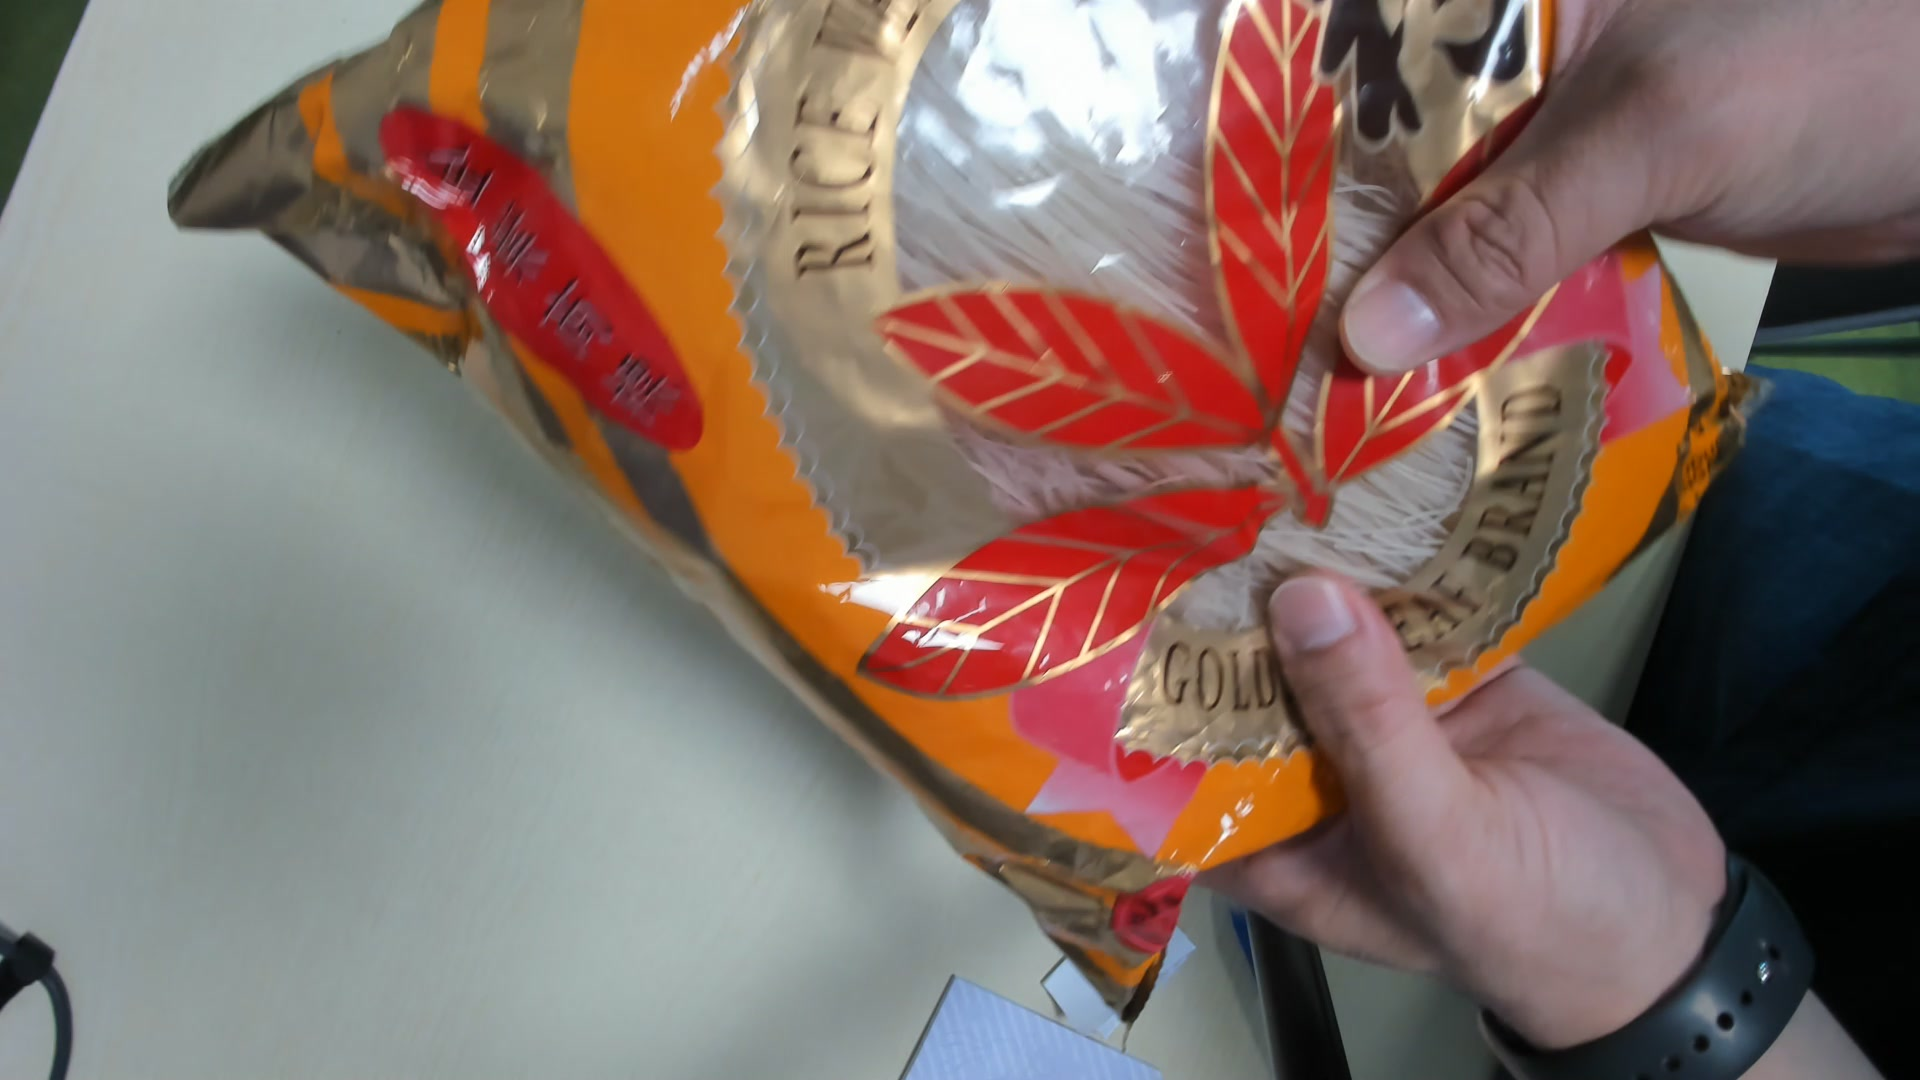OtherNoodles_400-499g_Halal_NonHealthy: (160, 3, 1767, 1023)
